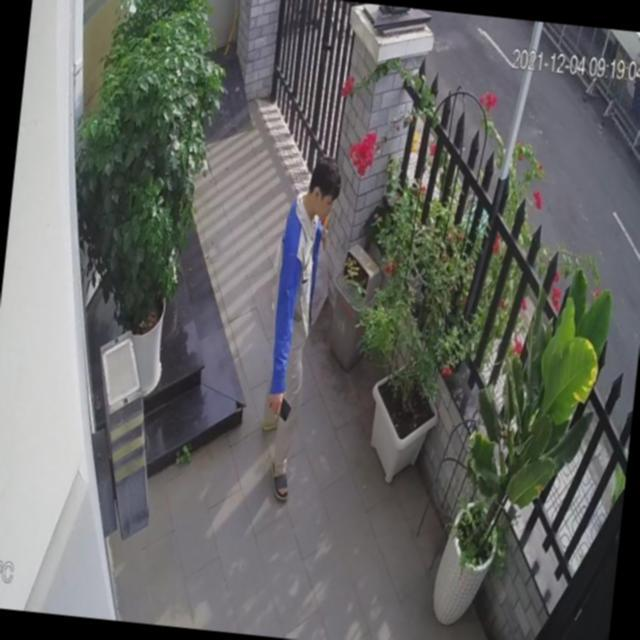person: (252, 151, 346, 504)
